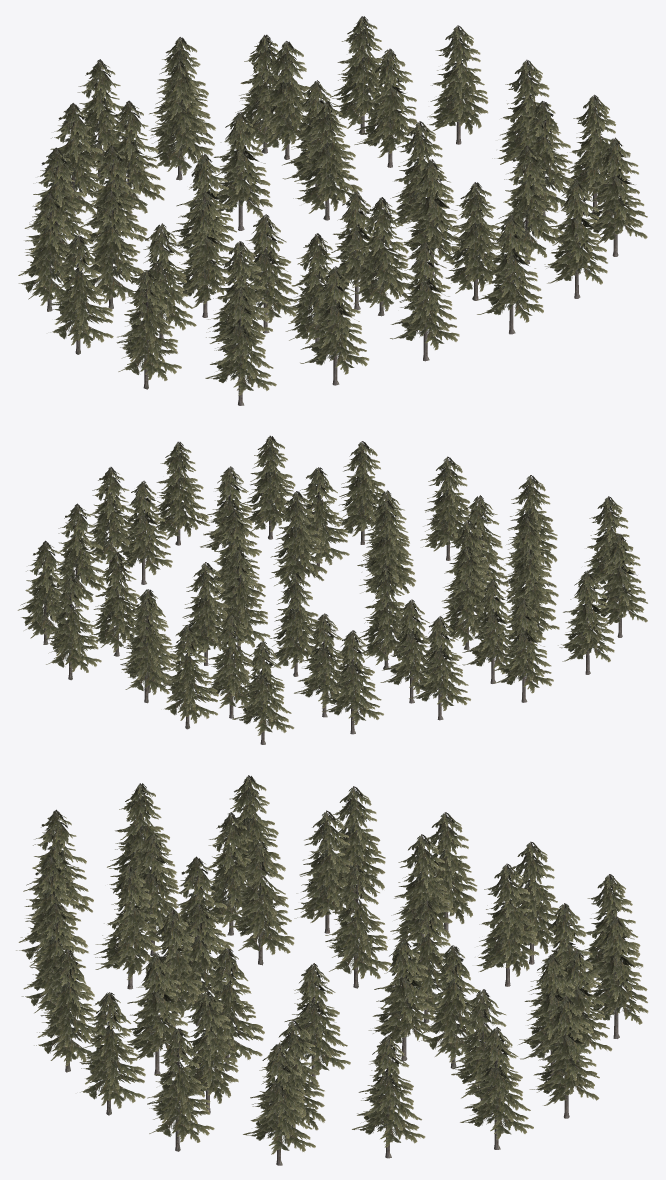
Rendered from pine_near.glb.
3 renders of one model, top to bottom at view 1: azimuth 30°, elevation 25°; view 2: azimuth 150°, elevation 25°; view 3: azimuth 270°, elevation 25°, orthographic. The views are drawn at different scales.
Visible parts, largest first — view 1: pine1; view 2: pine1; view 3: pine1.
Boxes of the visible parts, box(x1,y1,x2,y2) form: pine1: box(18, 16, 647, 405); pine1: box(17, 435, 647, 744); pine1: box(16, 775, 648, 1165).
Bounding box in the file's own units: 51.4 × 9.96 × 46.42.
Materials: 1 (1 with a texture image).
